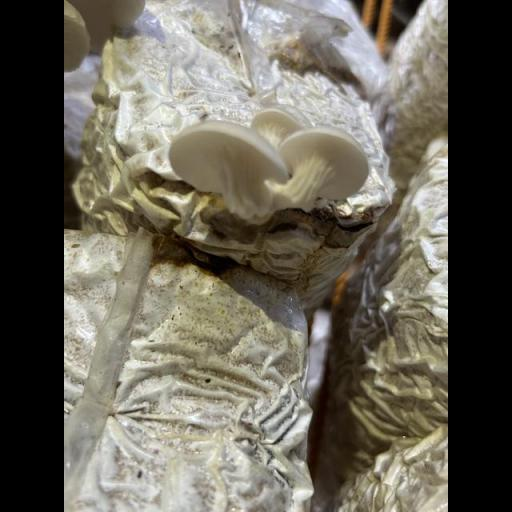White Oyster Mushroom: (171, 106, 369, 218)
